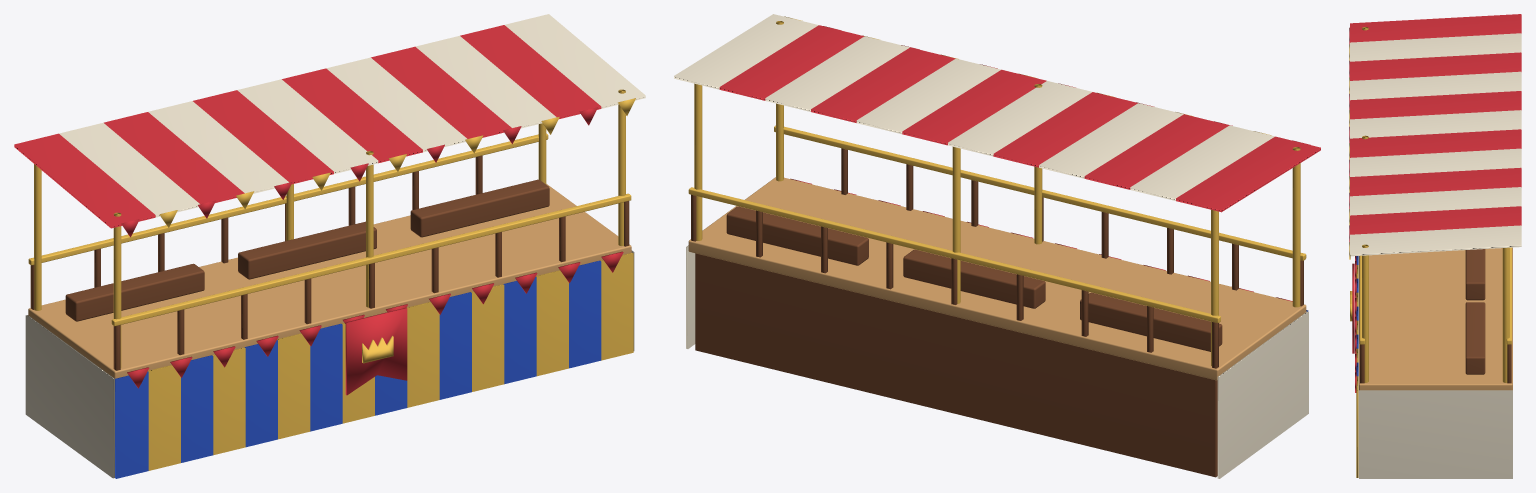
File: faire_stands.glb
3 views of the same model, side by side, from view 1: azimuth 30°, elevation 25°; view 2: azimuth 150°, elevation 25°; view 3: azimuth 270°, elevation 25° (orthographic). The views are drawn at different scales.
Parts seen in each view (by area): view 1: Stands; view 2: Stands; view 3: Stands.
Boxes of the visible parts, left/top/right/bottom form: Stands: left=14, top=14, right=645, bottom=478; Stands: left=674, top=14, right=1320, bottom=478; Stands: left=1349, top=14, right=1521, bottom=478.
Bounding box in the file's own units: 12.4 × 6 × 3.91.
